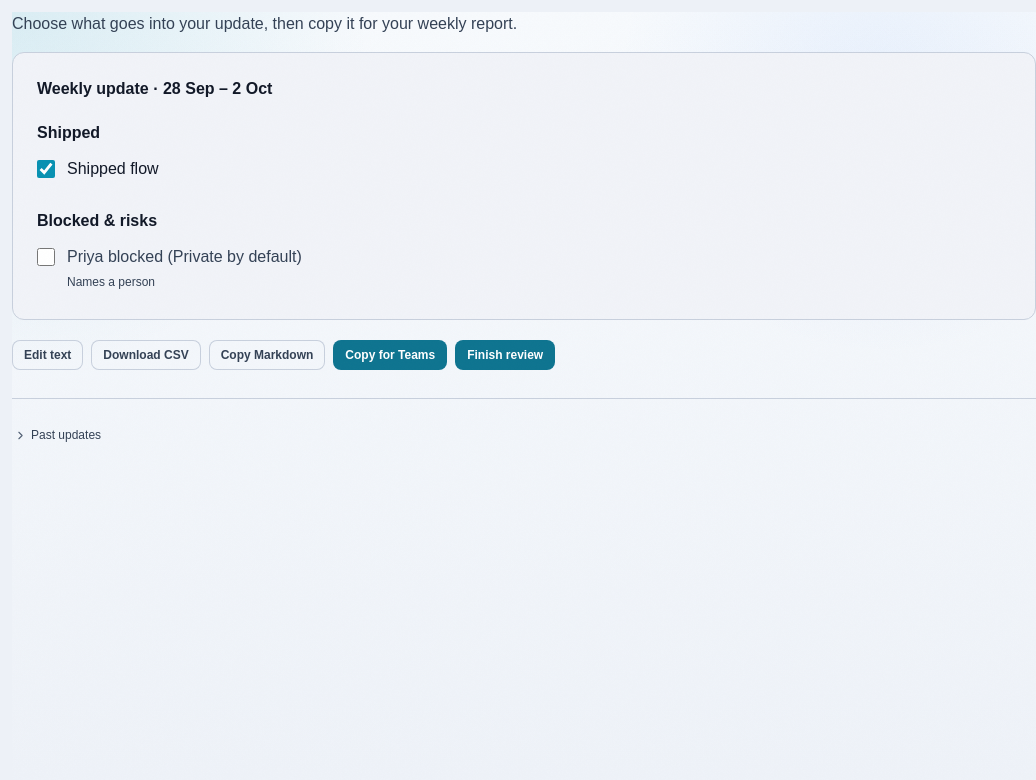
it: Send update › does not intercept typing y in the editor or copy empty text
This screenshot has width=1036, height=780.
Click the button "Edit text" at (48, 355), box [12,340,83,370]
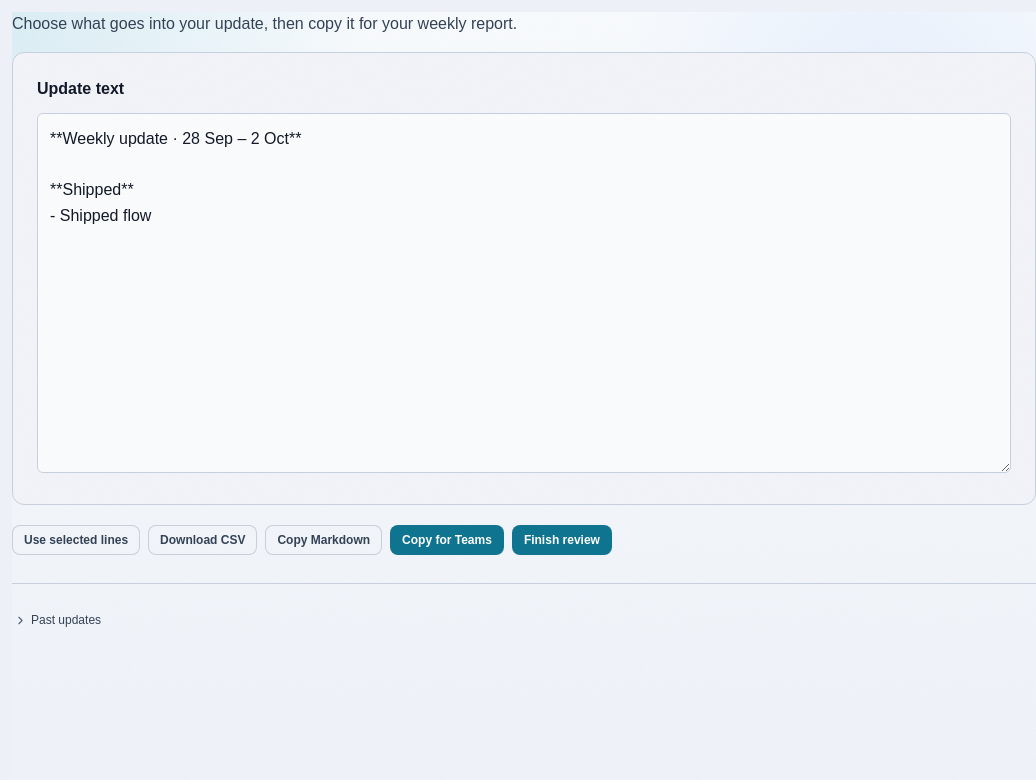
Press y in the text box, box [37,113,1011,473]
Clear the text box at (524, 293), box [37,113,1011,473]
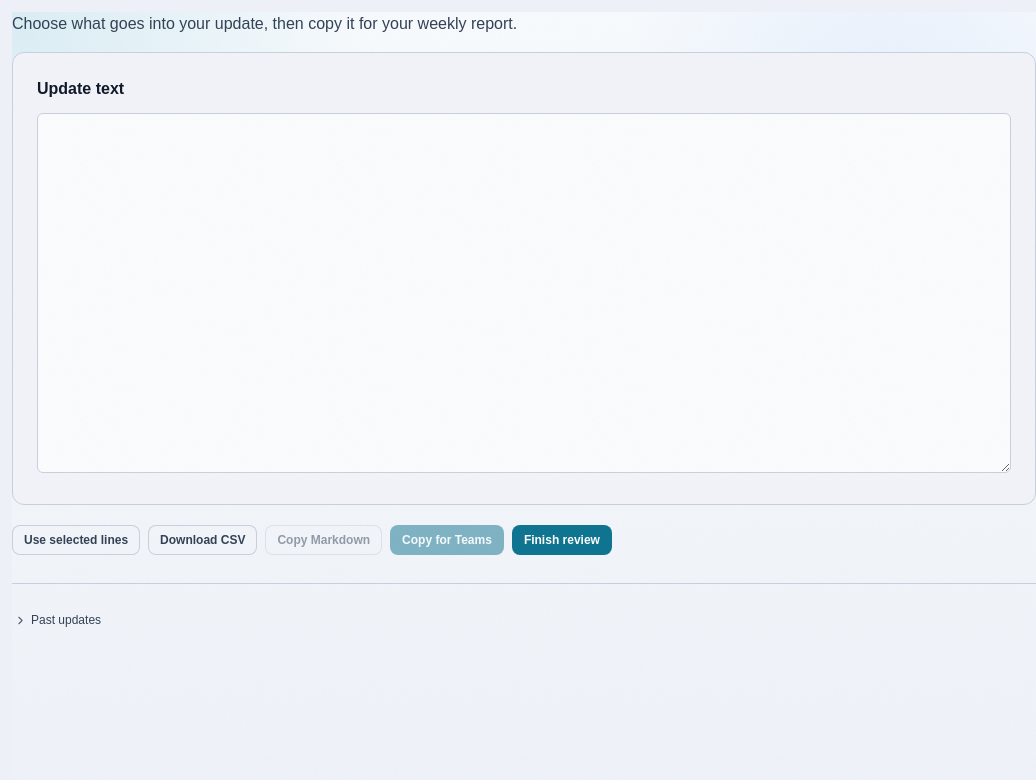
Check: the button "Copy for Teams" is disabled, box [390,525,504,555]
